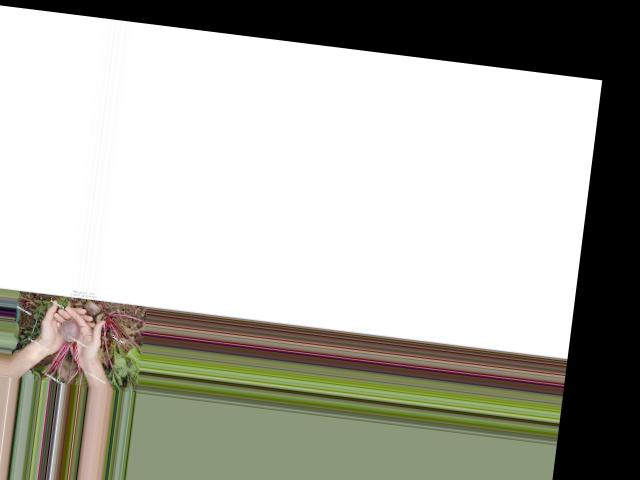beet: (40, 314, 87, 383)
